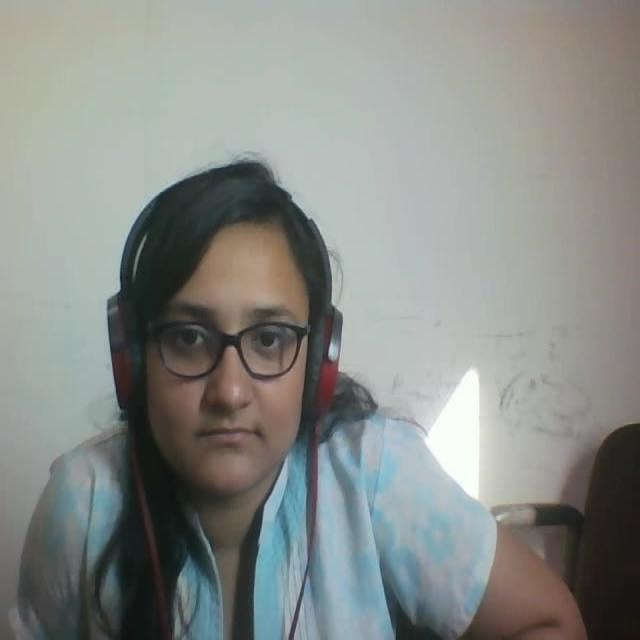Engaged: (91, 150, 352, 500)
